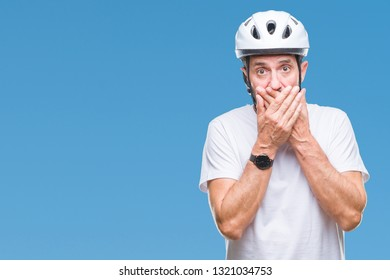helmet: (235, 10, 309, 111)
